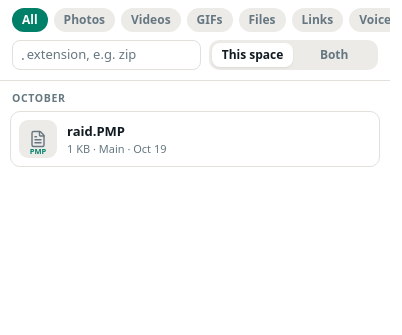
Test case: MediaGallery › with an extension filter › heads the matches and shows recent files dimmed below fewer than 3
The width and height of the screenshot is (402, 335).
Type "pmp" into the field labelled "extension" at (109, 55), box [27,46,192,64]
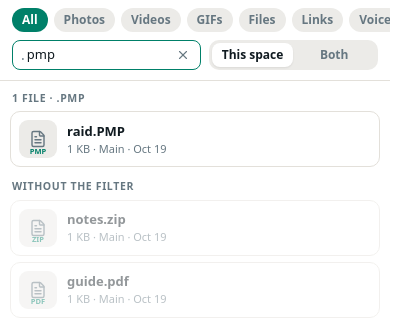
Expected: the heading "1 file · .pmp" is shown, [12,91,85,105]
Expected: the heading "Without the filter" is shown, [12,179,134,193]
Expected: the text "notes.zip" is shown, [67,210,126,228]
